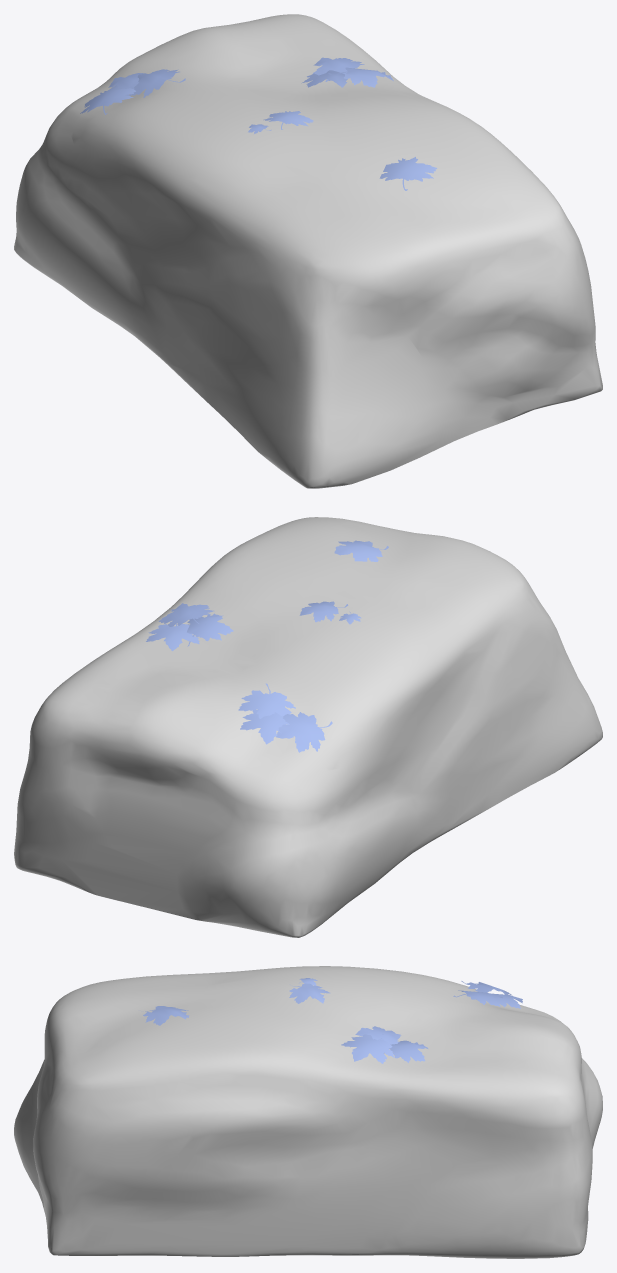
Rendered from Pedra Deitada 1.fbx.
The picture shows the model from 3 angles, top to bottom: view 1: azimuth 30°, elevation 25°; view 2: azimuth 150°, elevation 25°; view 3: azimuth 270°, elevation 25°; orthographic projection. The views are drawn at different scales.
Visible parts, largest first — view 1: Pedra 1.001, Folha 1 Azul2.079, Folha 1 Azul2.075, Folha 1 Azul2.076; view 2: Pedra 1.001, Folha 1 Azul2.076, Folha 1 Azul2.075, Folha 1 Azul2.077, Folha 1 Azul2.081, Folha 1 Azul2.078, Folha 1 Azul2.079, Folha 1 Azul2.080, Folha 1 Azul2.082; view 3: Pedra 1.001, Folha 1 Azul2.080, Folha 1 Azul2.078, Folha 1 Azul2.079, Folha 1 Azul2.082, Folha 1 Azul2.081.
Part boxes in pixels (x1,y1,x2,y2): Pedra 1.001: (14, 14, 602, 488); Folha 1 Azul2.079: (379, 157, 437, 190); Folha 1 Azul2.075: (129, 69, 185, 97); Folha 1 Azul2.076: (80, 85, 135, 114); Pedra 1.001: (14, 517, 602, 937); Folha 1 Azul2.076: (276, 712, 332, 752); Folha 1 Azul2.075: (238, 683, 295, 718); Folha 1 Azul2.077: (240, 709, 293, 744); Folha 1 Azul2.081: (187, 613, 233, 646); Folha 1 Azul2.078: (146, 624, 199, 651); Folha 1 Azul2.079: (334, 540, 388, 561); Folha 1 Azul2.080: (158, 603, 214, 626); Folha 1 Azul2.082: (299, 601, 348, 622); Pedra 1.001: (14, 966, 602, 1258); Folha 1 Azul2.080: (341, 1032, 394, 1063); Folha 1 Azul2.078: (383, 1040, 428, 1062); Folha 1 Azul2.079: (143, 1006, 189, 1025); Folha 1 Azul2.082: (289, 983, 330, 1003); Folha 1 Azul2.081: (355, 1026, 401, 1048).
Bounding box in the file's own units: 211 × 137 × 359.
